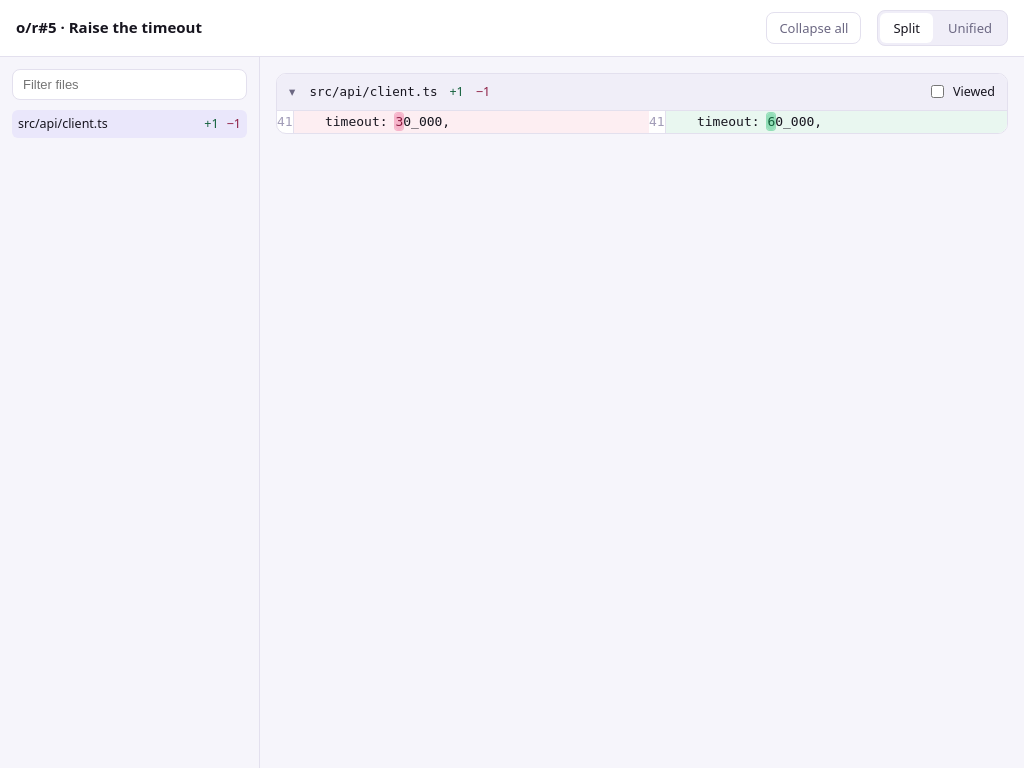
it: Review › starts in split layout and switches to unified
The image size is (1024, 768).
Expected: the number of rows with class "split" is 1, top-left (277, 110), bottom-right (1007, 133)
Step 1. Click the button "Unified" → (970, 28), box top-left (935, 13), bottom-right (1005, 43)
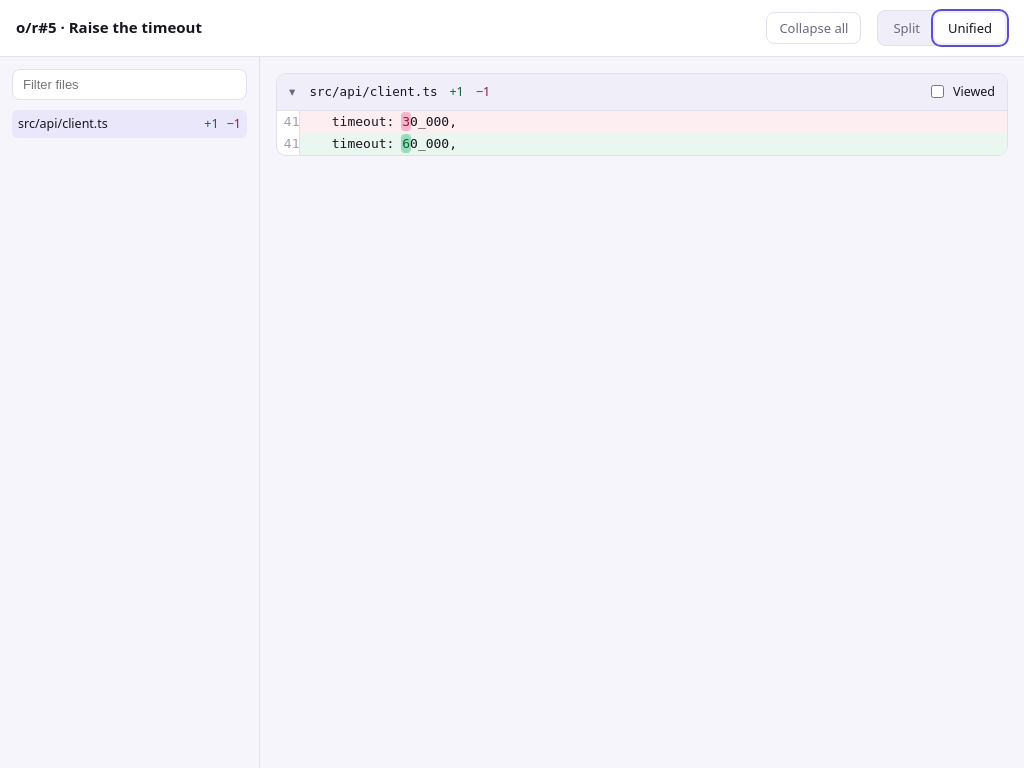
Expected: the number of rows is 2, top-left (277, 110), bottom-right (1007, 133); top-left (277, 133), bottom-right (1007, 155)
